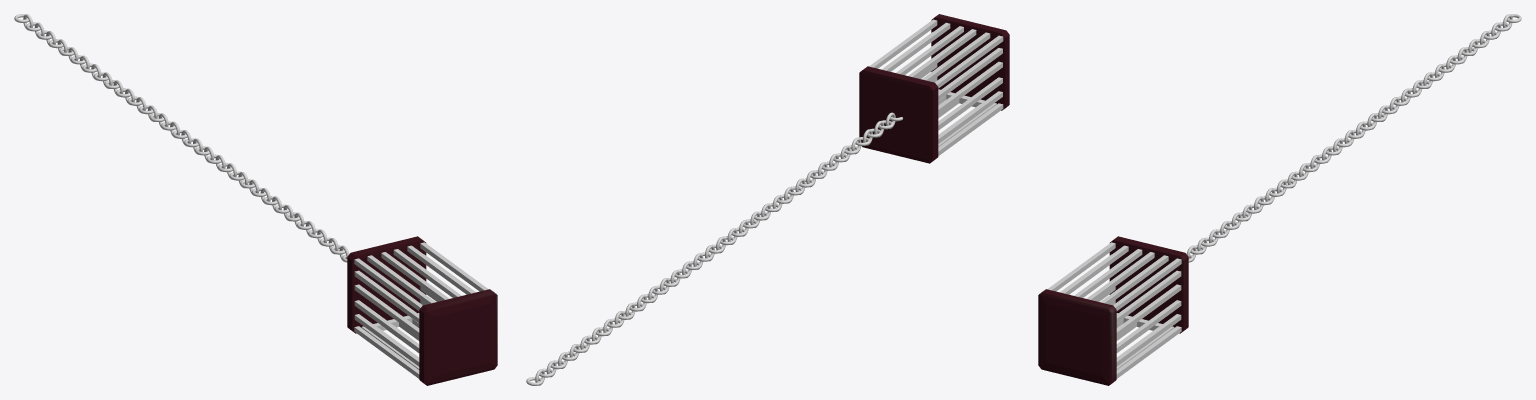
The model's file is HangingCage.fbx.
3 renders of one model, left to right at view 1: azimuth 30°, elevation 25°; view 2: azimuth 150°, elevation 25°; view 3: azimuth 330°, elevation 25°, orthographic.
Visible parts, largest first — view 1: Cube, Cube.007; view 2: Cube, Cube.007; view 3: Cube, Cube.007.
Boxes of the visible parts, <box> form: Cube: <box>347,236,497,385</box>; Cube.007: <box>361,313,419,369</box>; Cube: <box>859,14,1009,163</box>; Cube.007: <box>938,89,996,146</box>; Cube: <box>1038,236,1188,385</box>; Cube.007: <box>1116,313,1174,369</box>.
Size of the model in its own units: 1.05 by 1.05 by 10.89.
